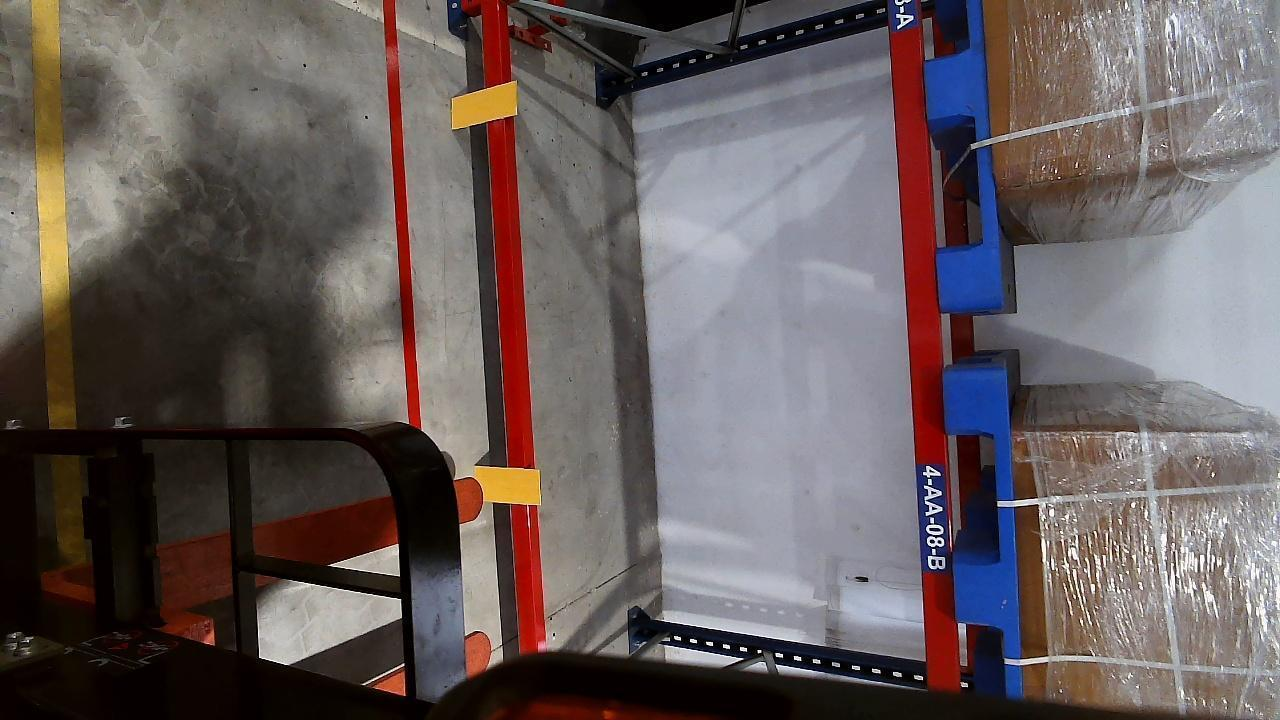red_line: (380, 0, 421, 434)
yellow_line: (31, 0, 73, 424)
